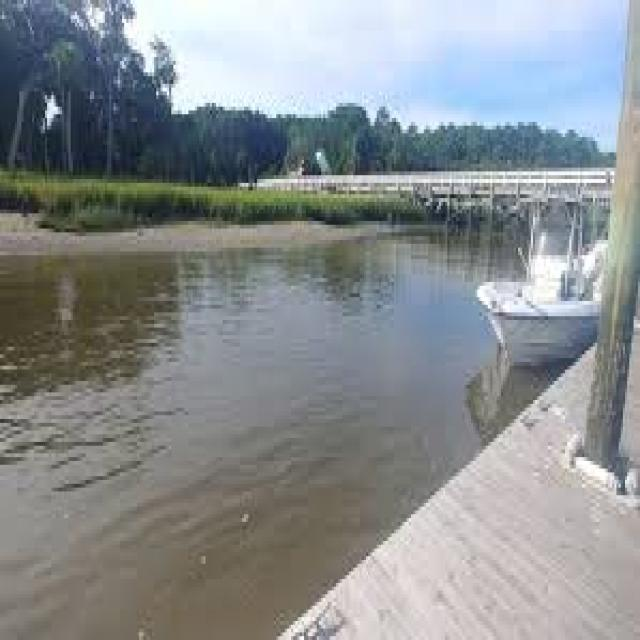houseboat: (474, 187, 620, 361)
